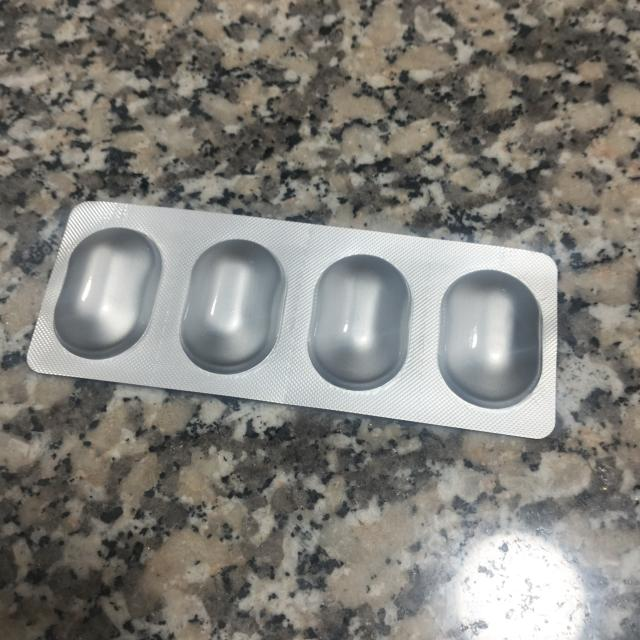blister: (26, 201, 558, 440)
